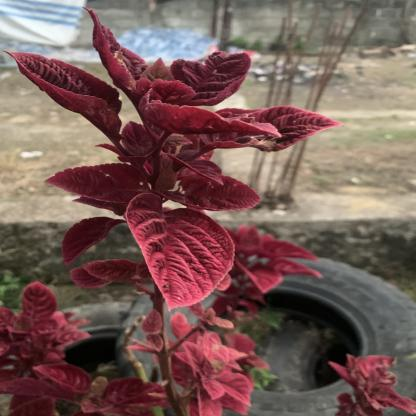Bunga Coleus: (5, 21, 257, 400), (341, 358, 406, 416)
